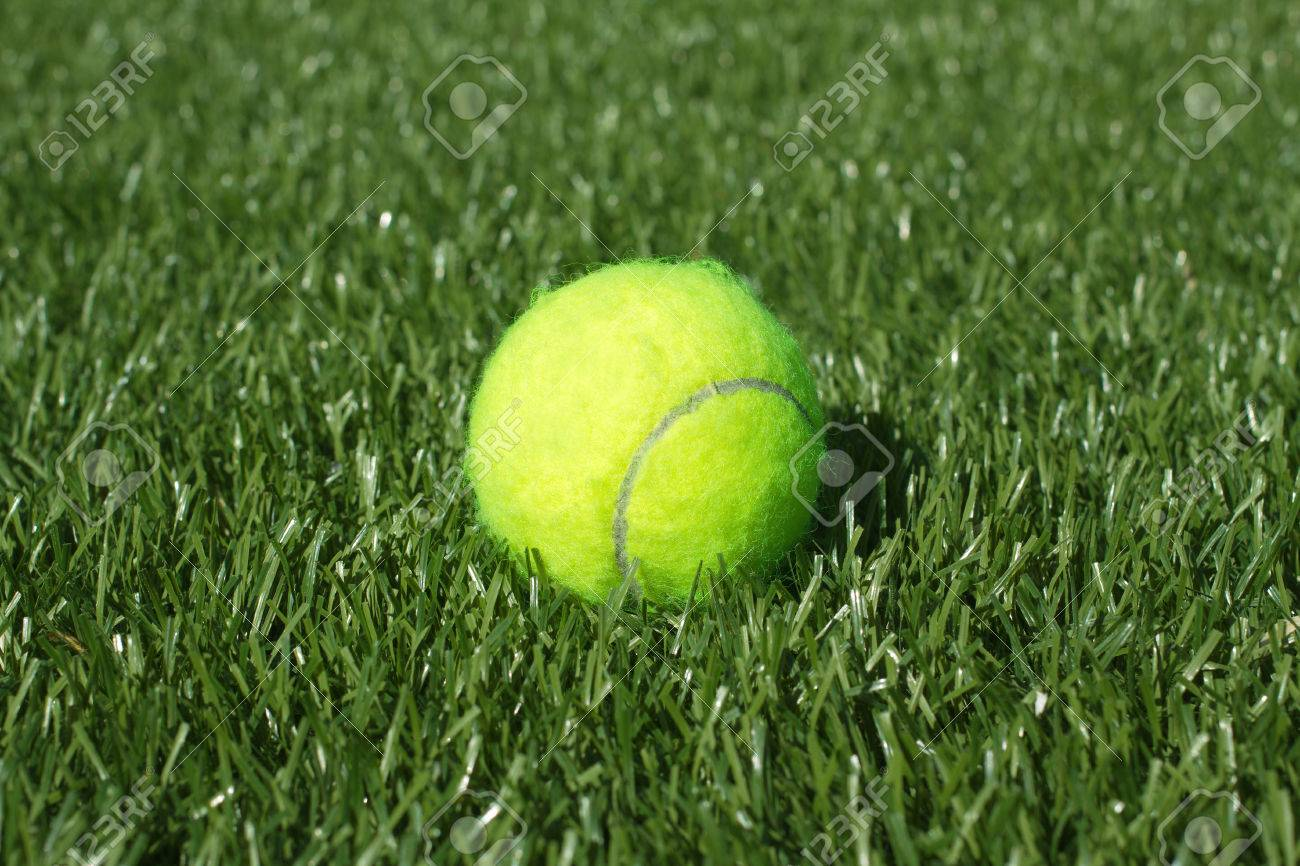tennis_ball: (461, 256, 835, 621)
